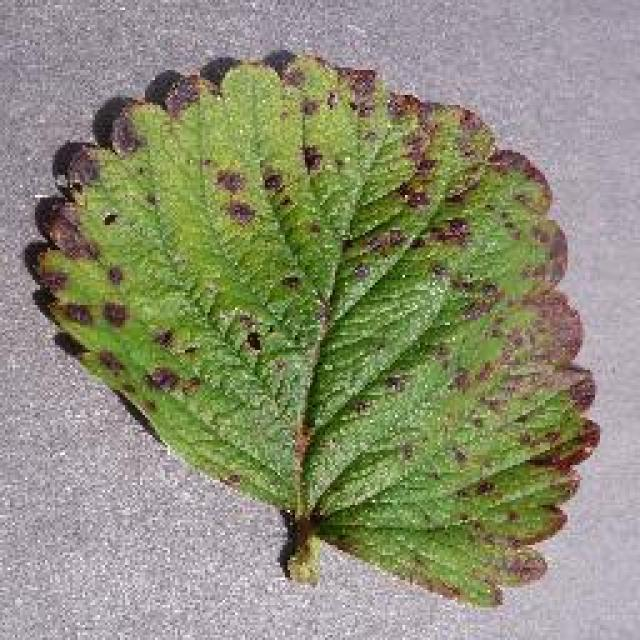Strawberry___Leaf_scorch: (18, 25, 610, 617)
